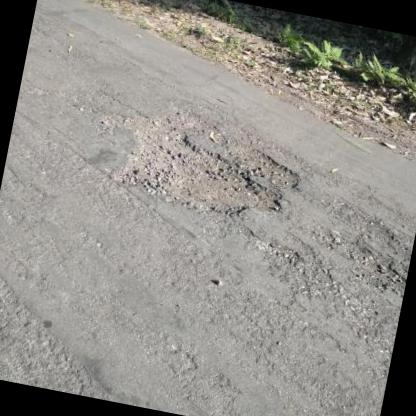pothole: (82, 92, 312, 232)
